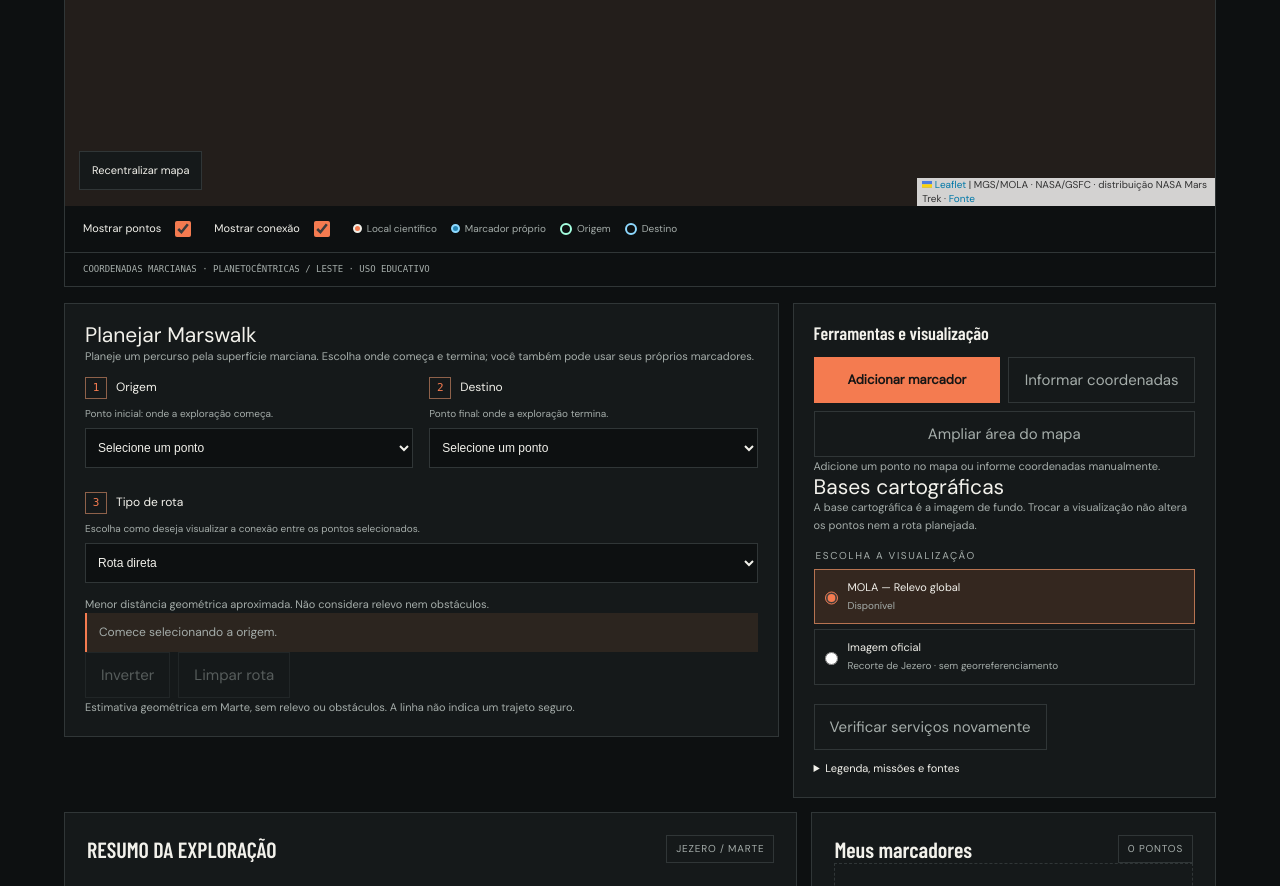
Test case: Mars Maps: exploração persistente › retains the form when storage is full
This screenshot has width=1280, height=886.
(page scrolled)
Select "Cratera Belva" in the dropdown labelled "Origem": x=249, y=448 top-left (85, 428), bottom-right (413, 468)
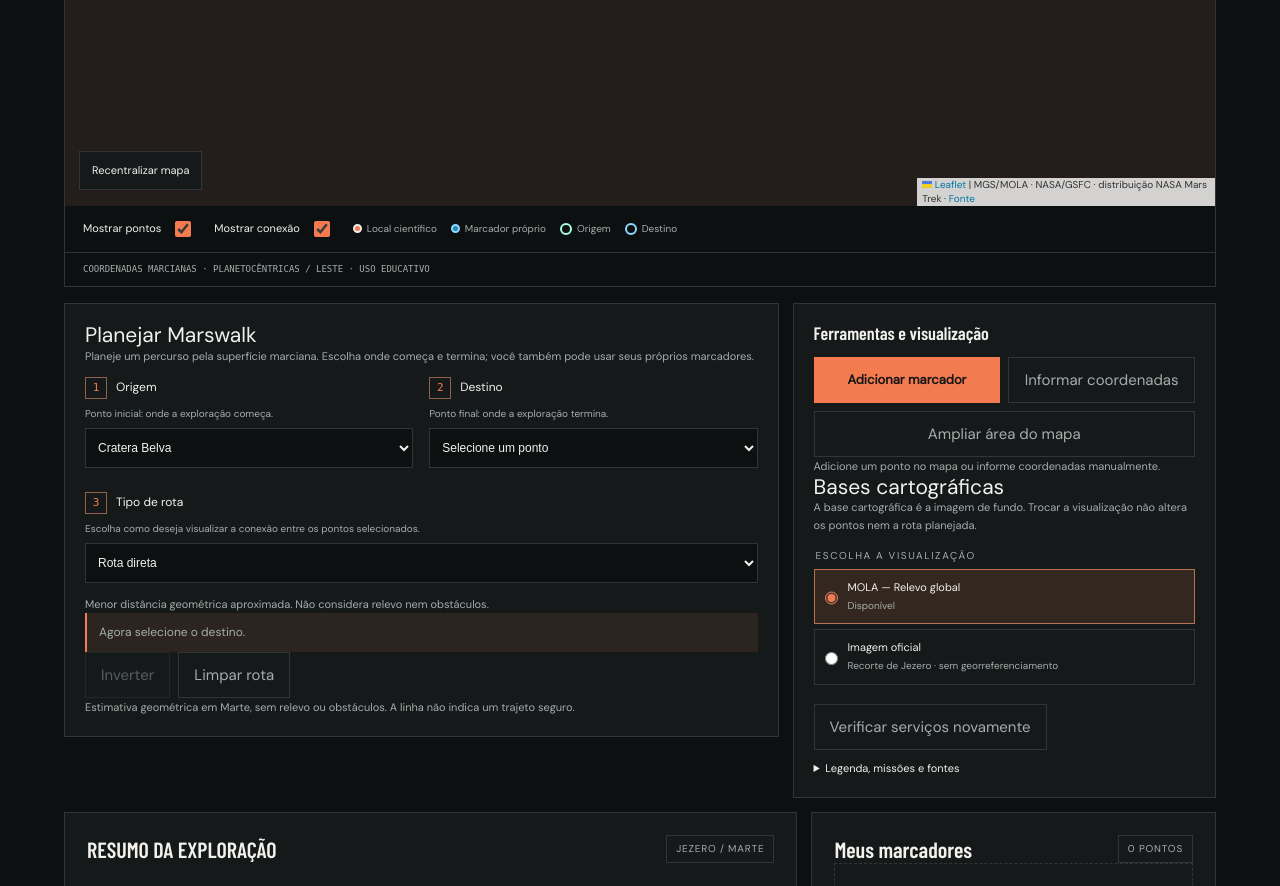
Select "Neretva Vallis" in the dropdown labelled "Destino": x=593, y=448 top-left (429, 428), bottom-right (758, 468)
(page scrolled)
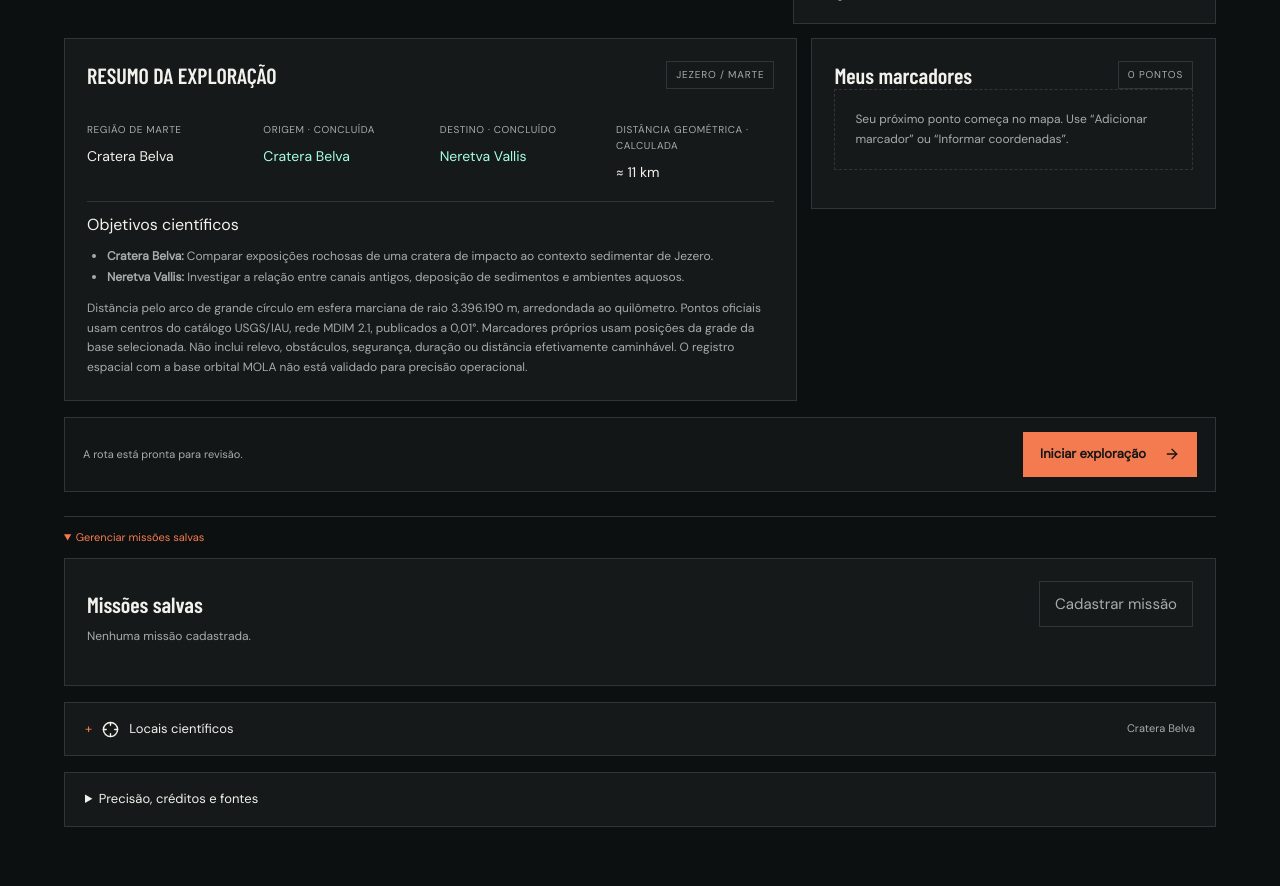
Click the button "Cadastrar missão": x=1116, y=604 top-left (1039, 582), bottom-right (1193, 628)
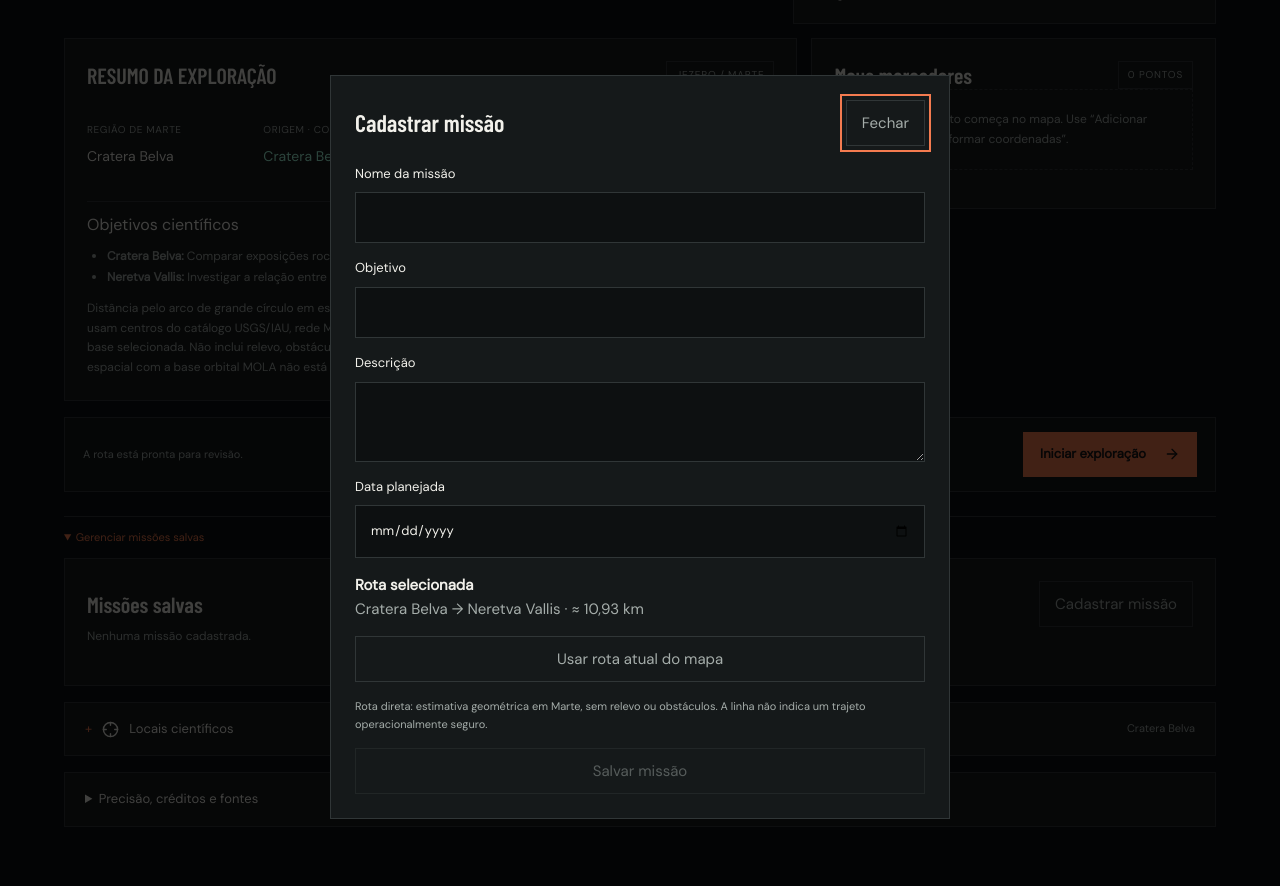
In the field labelled "Nome da missão": x=640, y=218 top-left (355, 192), bottom-right (925, 243), type "Coleta no delta"
In the field labelled "Objetivo": x=640, y=312 top-left (355, 287), bottom-right (925, 338), type "Investigar sedimentos"
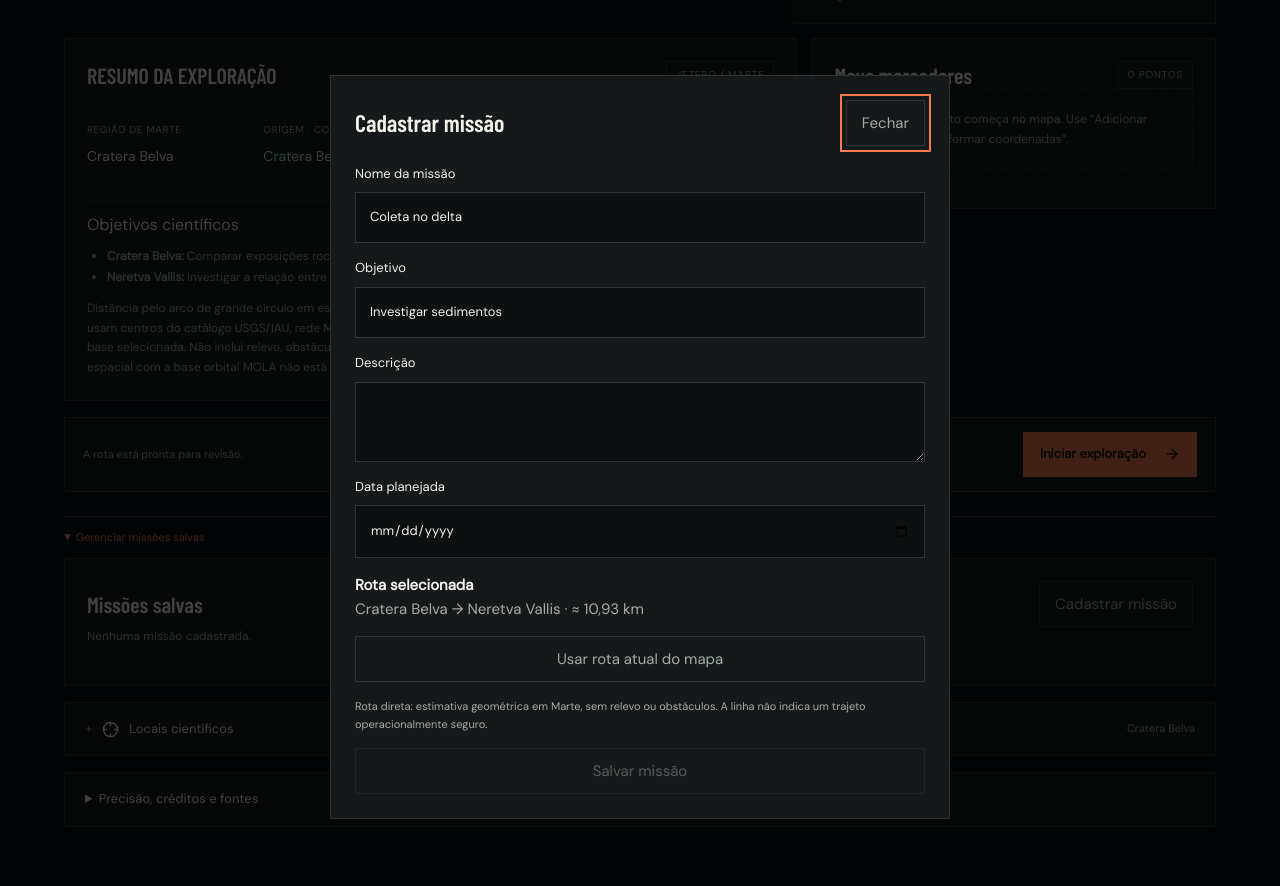
In the date field labelled "Data planejada": x=640, y=532 top-left (355, 505), bottom-right (925, 558), type "2026-12-01"
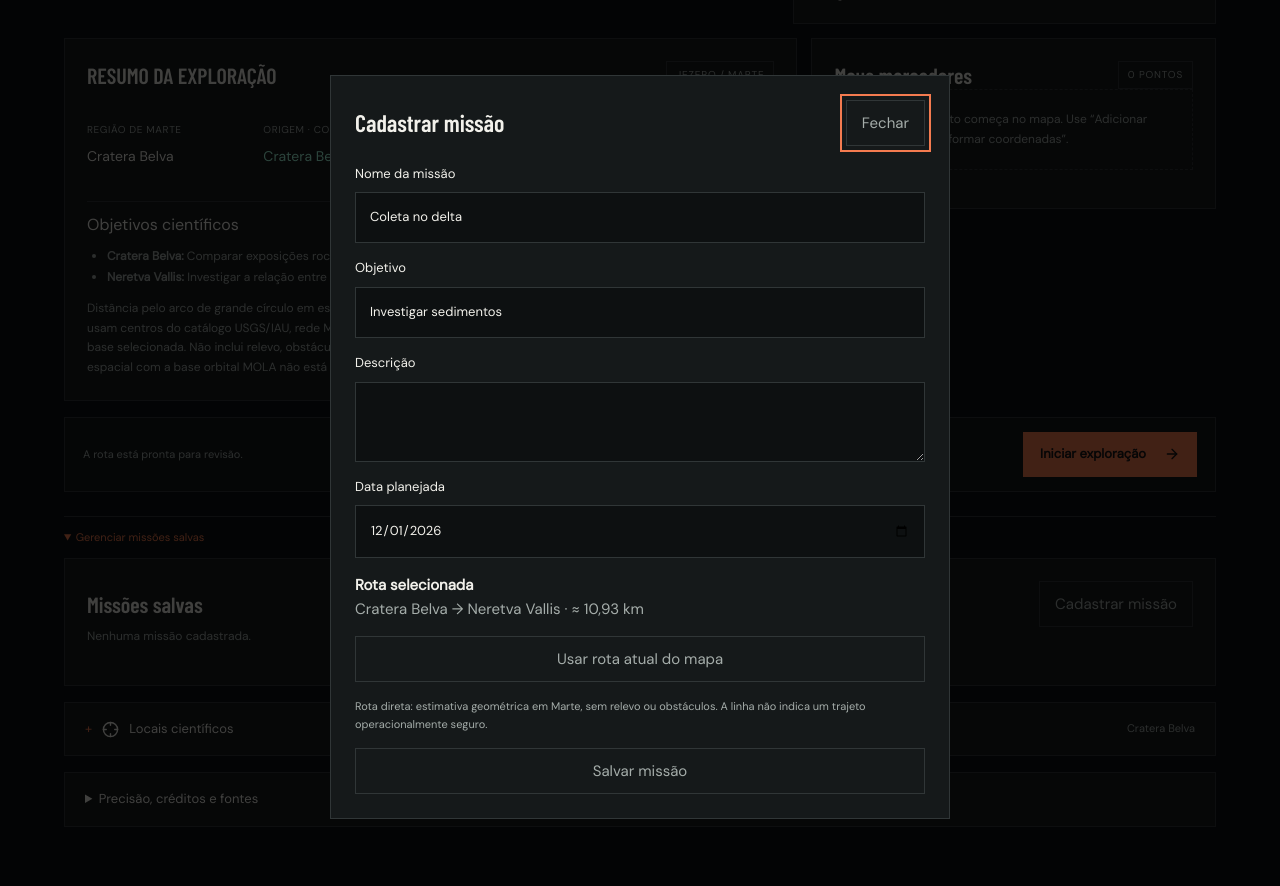
Click the button "Salvar missão": x=640, y=771 top-left (355, 748), bottom-right (925, 794)
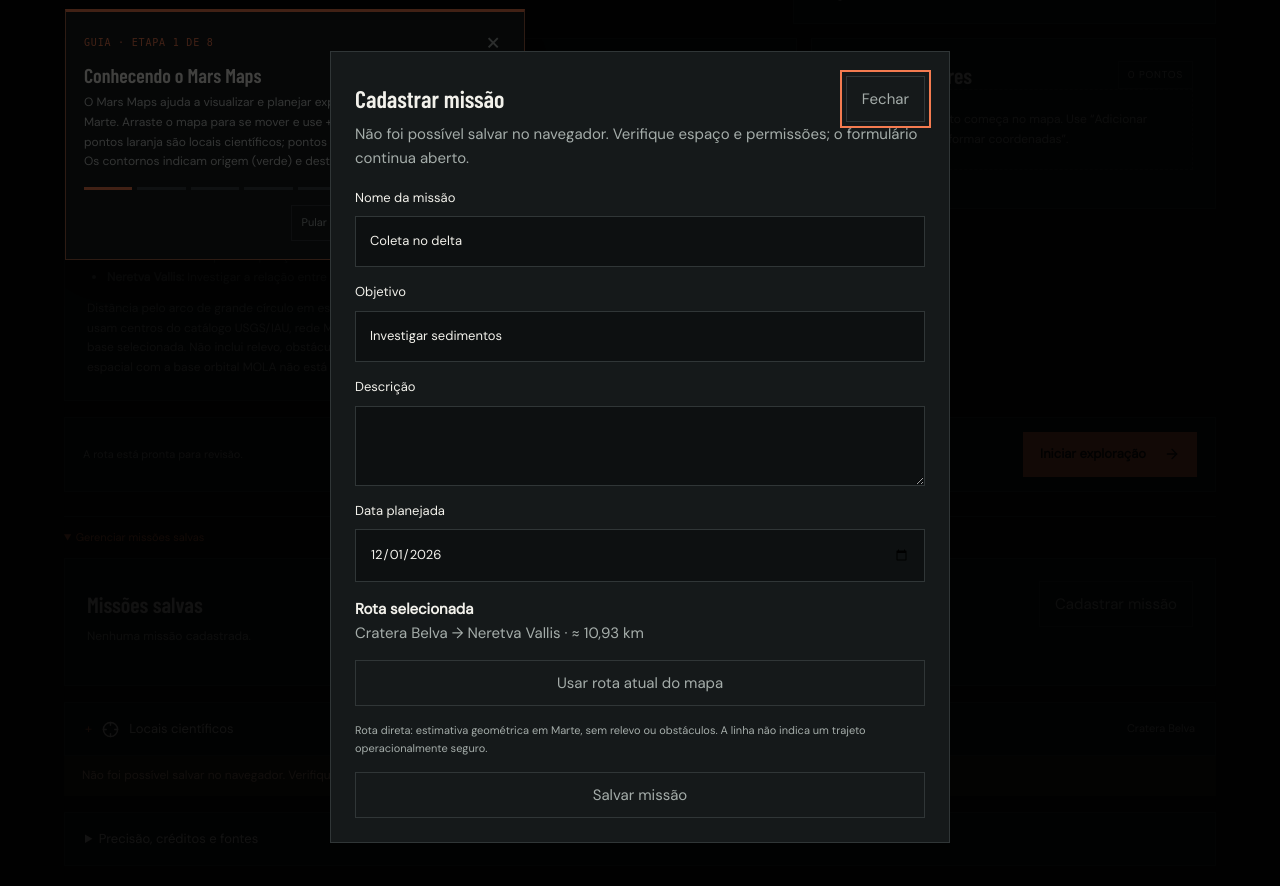
Expected: the 1st message shows "Não foi possível salvar", top-left (355, 124), bottom-right (918, 168)
